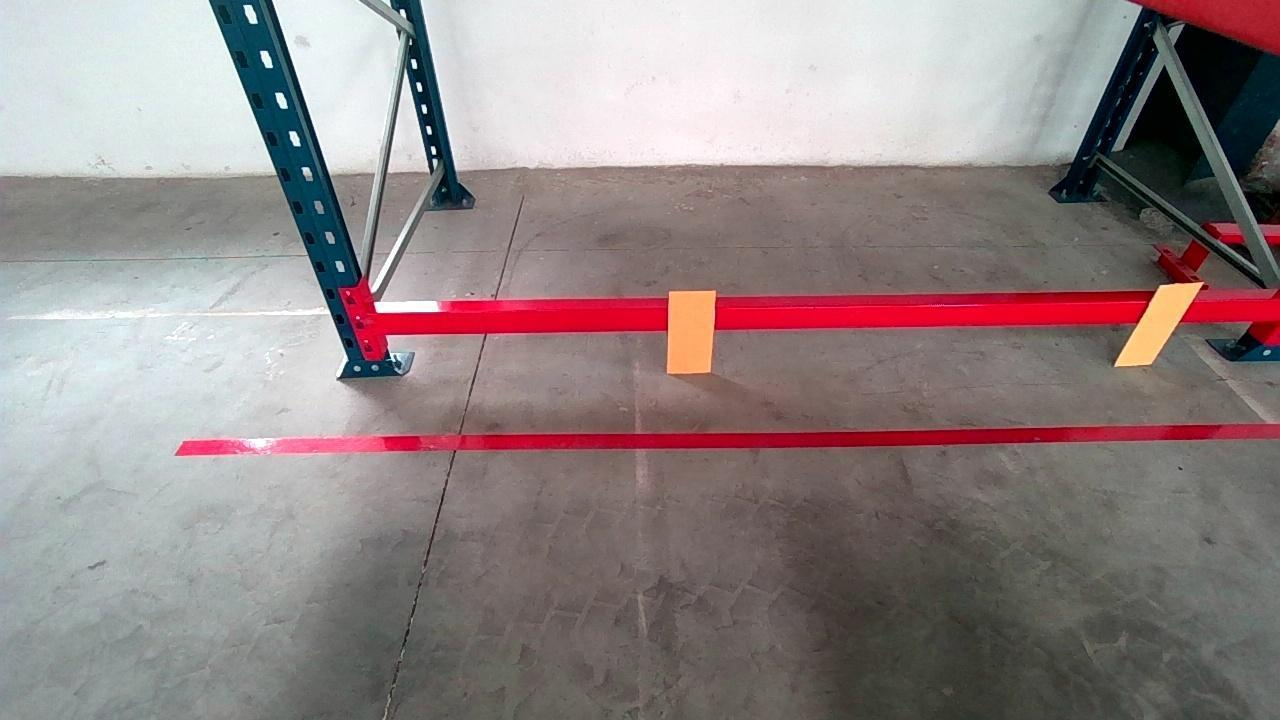h_rack: (378, 300, 1280, 334)
orange_strip: (1116, 282, 1203, 364), (668, 290, 716, 373)
red_line: (175, 421, 1280, 454)
